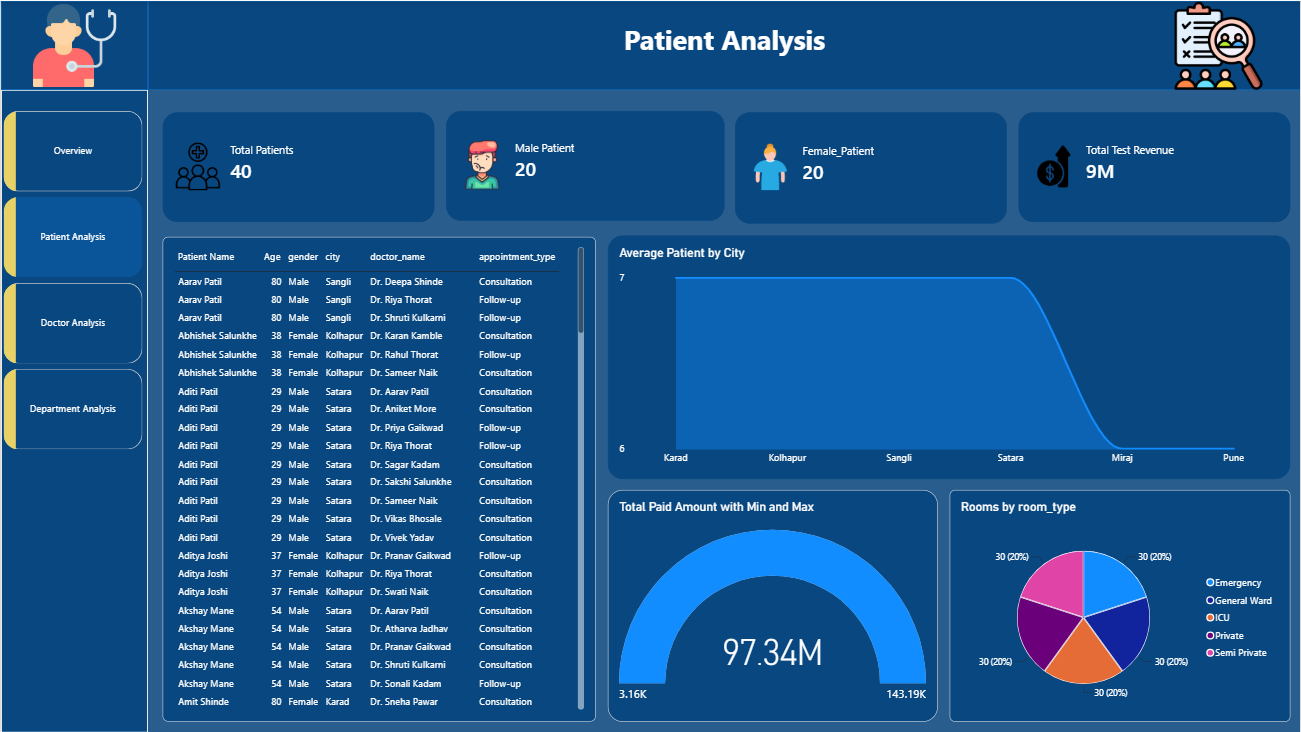

Layout of this report page (visuals, bound fields, positions):
{"tool":"powerbi","page":{"name":"Patient Analysis","canvas":[1920,1080],"ordinal":1},"visuals":[{"type":"cardVisual","fields":{"Data":["CountNonNull(patient (2).patient_id)"]},"box":[238.9,164.5,401.4,162.5],"z":1000},{"type":"shape","box":[0,131.2,217.3,949.6],"z":2000},{"type":"cardVisual","fields":{"Data":["patient (2).Female_Patient"]},"box":[1084.7,164.5,401.4,164.5],"z":3000},{"type":"cardVisual","fields":{"Data":["patient (2).male_patient"]},"box":[657.9,162.5,411.2,162.5],"z":4000},{"type":"cardVisual","fields":{"Data":["Sum(lab_test.test_cost)"]},"box":[1503.8,164.5,401.4,162.5],"z":5000},{"type":"shape","box":[0,0,217.3,131.2],"z":6000},{"type":"image","box":[13.7,0,189.9,131.2],"z":7000},{"type":"stackedAreaChart","title":"Average Patient by City","fields":{"Category":["patient (2).city"],"Y":["CountNonNull(patient (2).patient_id)"]},"box":[896.8,346.6,1008.4,360.3],"z":8000},{"type":"tableEx","fields":{"Values":["patient (2).patient_name","Sum(patient (2).Age)","patient (2).gender","patient (2).city","doctor.doctor_name","appointment.appointment_type"]},"box":[238,348,640,716],"z":9000},{"type":"pieChart","fields":{"Series":["room.room_type"],"Y":["CountNonNull(room.room_id)"]},"box":[1401.9,722.5,503.2,342.7],"z":10000},{"type":"pageNavigator","box":[3.9,162.5,205.6,501.3],"z":11000},{"type":"gauge","title":"Total Paid Amount with Min and Max","fields":{"MaxValue":["bill.Max_Paid_Amount"],"MinValue":["bill.Min_Paid_Amount"],"Y":["Sum(bill.paid_amount)"]},"box":[896.8,722.5,487.5,342.7],"z":12000},{"type":"shape","box":[217.3,0,1703.5,131.2],"z":12500},{"type":"image","box":[1678,0,242,132],"z":13000}]}

Visuals, with their boxes in screenshot pixels (x1, y1, x2, y2), scaled from the page's 1920x1080 canvas onto the 1301x732 screenshot:
cardVisual - CountNonNull(patient (2).patient_id): Rect(162, 111, 434, 222)
shape: Rect(0, 89, 147, 731)
cardVisual - patient (2).Female_Patient: Rect(735, 111, 1007, 223)
cardVisual - patient (2).male_patient: Rect(446, 110, 724, 220)
cardVisual - Sum(lab_test.test_cost): Rect(1019, 111, 1291, 222)
shape: Rect(0, 0, 147, 89)
image: Rect(9, 0, 138, 89)
"Average Patient by City" stackedAreaChart: Rect(608, 235, 1291, 479)
tableEx - patient (2).patient_name x Sum(patient (2).Age): Rect(161, 236, 595, 721)
pieChart - room.room_type x CountNonNull(room.room_id): Rect(950, 490, 1291, 722)
pageNavigator: Rect(3, 110, 142, 450)
"Total Paid Amount with Min and Max" gauge: Rect(608, 490, 938, 722)
shape: Rect(147, 0, 1300, 89)
image: Rect(1137, 0, 1300, 89)
